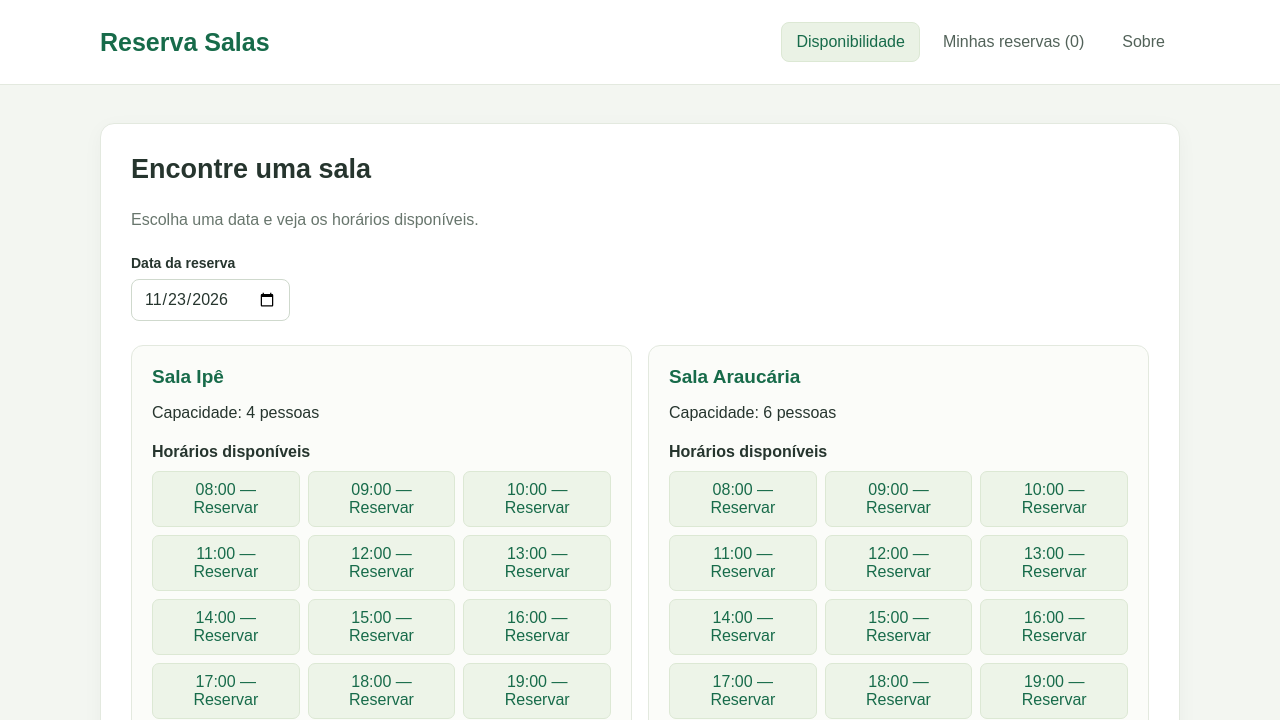
Test: Reserva Salas › permite reservar e cancelar um horário
What coordinates should you click on to do the following:
click the button "08:00 — Reservar" below "Sala Ipê"
I would click on:
 (226, 499)
Its box is [152,471,300,527].
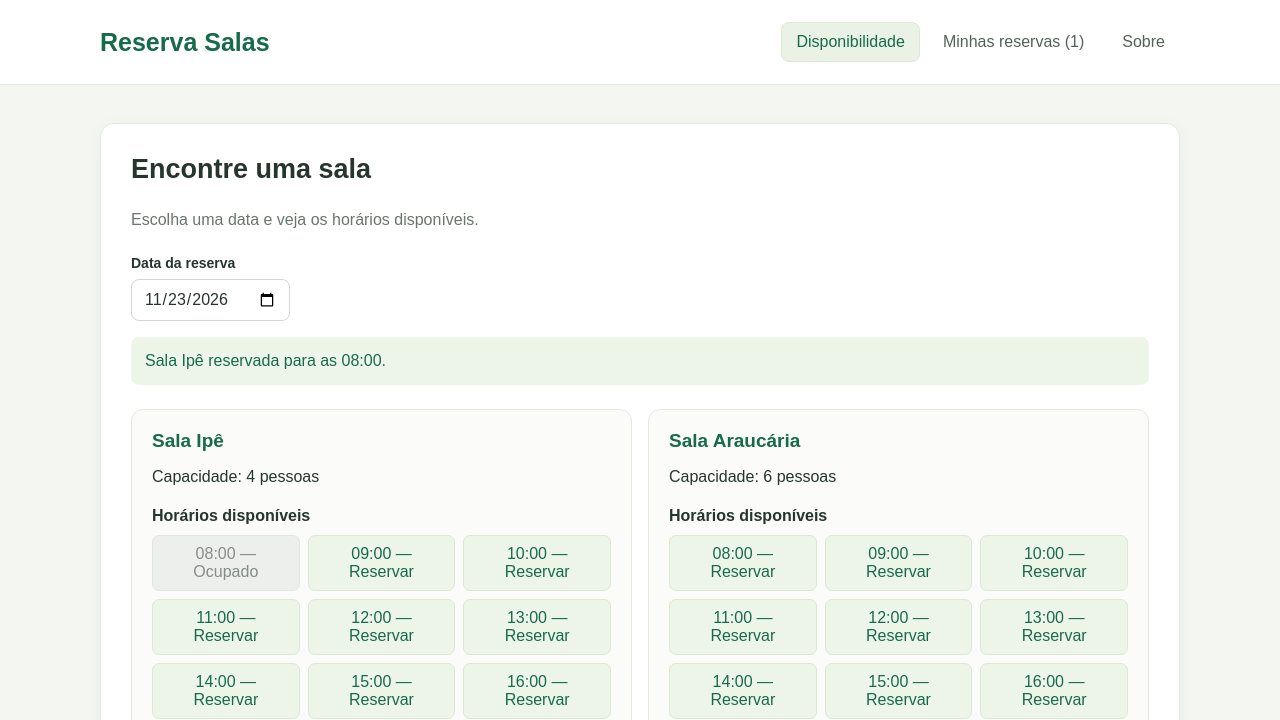
What coordinates should you click on to do the following:
click the button "Minhas reservas (1)"
I would click on:
 (1014, 42)
Its box is [928,22,1099,62].
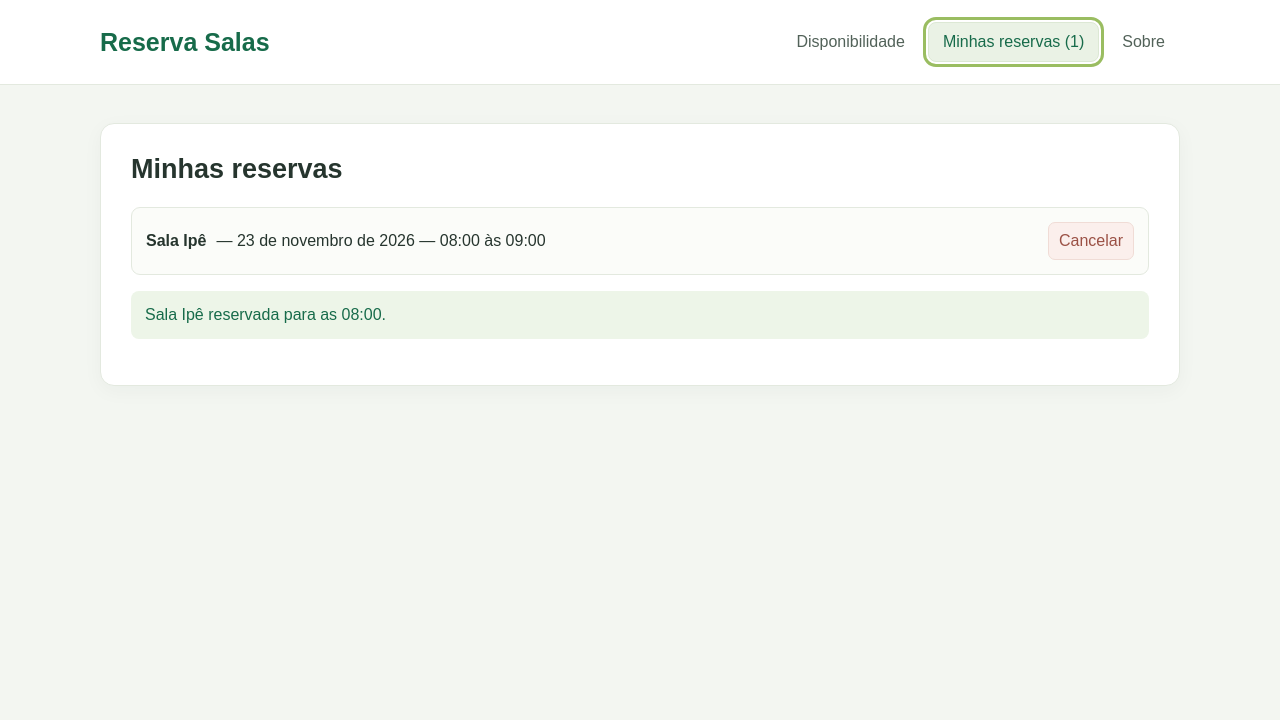
Expected: the list item is shown, [131,207,1149,275]
What coordinates should you click on to do the following:
click the button "Cancelar"
I would click on:
 (1091, 241)
Its box is [1048,222,1134,260].
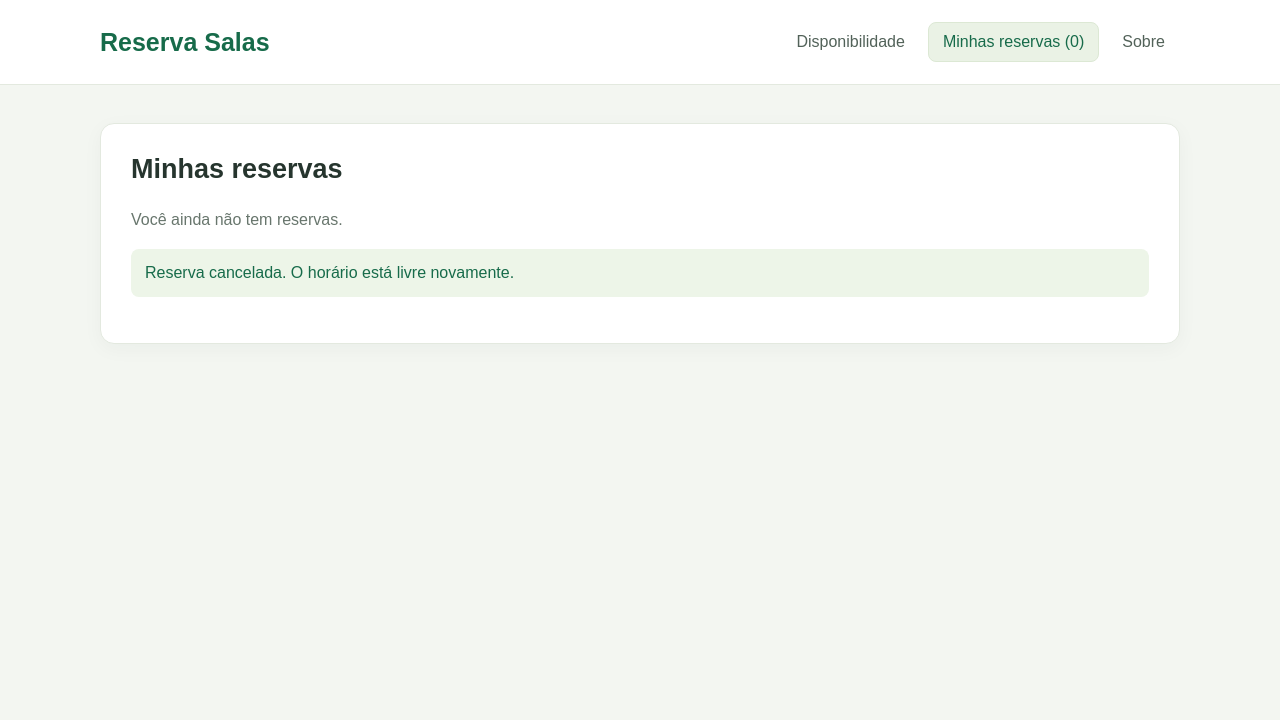
Expected: the list item is gone
